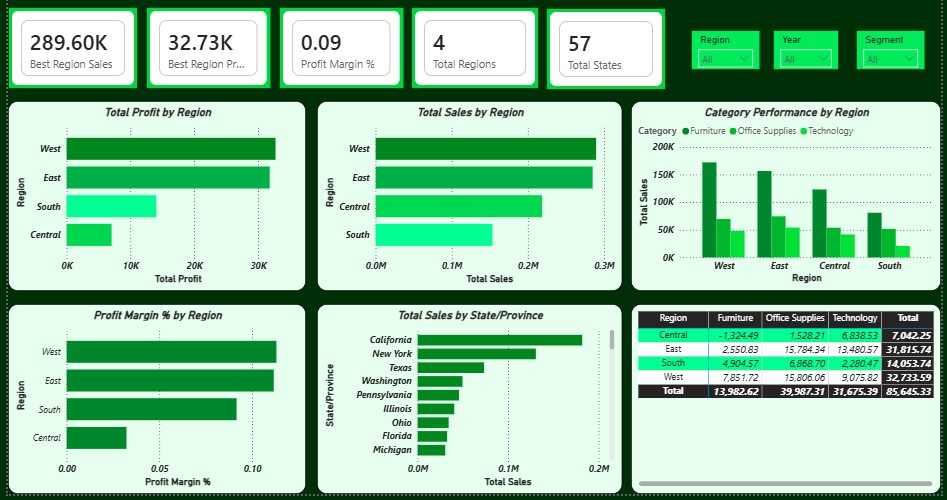

The dashboard page shown, as its layout file describes it:
{"tool":"powerbi","page":{"name":"Regional Performance Dashboard","canvas":[1400,750],"ordinal":3},"visuals":[{"type":"cardVisual","fields":{"Data":["Date Table.Best Region Sales"]},"box":[0,19.5,195,123],"z":0},{"type":"cardVisual","fields":{"Data":["Date Table.Profit Margin %"]},"box":[406.5,19.5,187.5,123],"z":1000},{"type":"cardVisual","fields":{"Data":["Date Table.Total Regions"]},"box":[604.5,19.5,192,123],"z":2000},{"type":"cardVisual","fields":{"Data":["Date Table.Best Region Profit"]},"box":[207,19.5,187.5,123],"z":3000},{"type":"cardVisual","fields":{"Data":["Date Table.Total States"]},"box":[807,21,180,123],"z":4000},{"type":"clusteredBarChart","fields":{"Y":["Date Table.Profit Margin %"],"Category":["SSdataset.Region"]},"box":[0,465,447,285],"z":5000},{"type":"clusteredBarChart","fields":{"Y":["Date Table.Total Sales"],"Category":["SSdataset.Region"]},"box":[463.5,160.5,457.5,285],"z":6000},{"type":"clusteredBarChart","fields":{"Y":["Date Table.Total Profit"],"Category":["SSdataset.Region"]},"box":[0,160.5,447,285],"z":7000},{"type":"barChart","fields":{"Category":["SSdataset.State/Province"],"Y":["Date Table.Total Sales"]},"box":[463.5,465,457.5,285],"z":8000},{"type":"slicer","fields":{"Values":["SSdataset.Region"]},"box":[1024.5,54,103.5,60],"z":9000},{"type":"slicer","fields":{"Values":["SSdataset.Segment"]},"box":[1272,54,103.5,60],"z":10000},{"type":"slicer","fields":{"Values":["Date Table.Year"]},"box":[1147.5,54,99,60],"z":11000},{"type":"clusteredColumnChart","title":"Category Performance by Region","fields":{"Category":["SSdataset.Region"],"Y":["Date Table.Total Sales"],"Series":["SSdataset.Category"]},"box":[934.5,160.5,465,285],"z":12000},{"type":"pivotTable","title":"Bottom 10 Products by Sales","fields":{"Rows":["SSdataset.Region"],"Columns":["SSdataset.Category"],"Values":["Date Table.Total Profit"]},"box":[934.5,465,465,285],"z":13000}]}

Visuals, with their boxes in screenshot pixels (x1, y1, x2, y2), scaled from the page's 1400x750 canvas onto the 947x500 screenshot:
cardVisual - Date Table.Best Region Sales: rect(0, 13, 132, 95)
cardVisual - Date Table.Profit Margin %: rect(275, 13, 402, 95)
cardVisual - Date Table.Total Regions: rect(409, 13, 539, 95)
cardVisual - Date Table.Best Region Profit: rect(140, 13, 267, 95)
cardVisual - Date Table.Total States: rect(546, 14, 668, 96)
clusteredBarChart - Date Table.Profit Margin % x SSdataset.Region: rect(0, 310, 302, 499)
clusteredBarChart - Date Table.Total Sales x SSdataset.Region: rect(314, 107, 623, 297)
clusteredBarChart - Date Table.Total Profit x SSdataset.Region: rect(0, 107, 302, 297)
barChart - SSdataset.State/Province x Date Table.Total Sales: rect(314, 310, 623, 499)
slicer - SSdataset.Region: rect(693, 36, 763, 76)
slicer - SSdataset.Segment: rect(860, 36, 930, 76)
slicer - Date Table.Year: rect(776, 36, 843, 76)
"Category Performance by Region" clusteredColumnChart: rect(632, 107, 946, 297)
"Bottom 10 Products by Sales" pivotTable: rect(632, 310, 946, 499)
